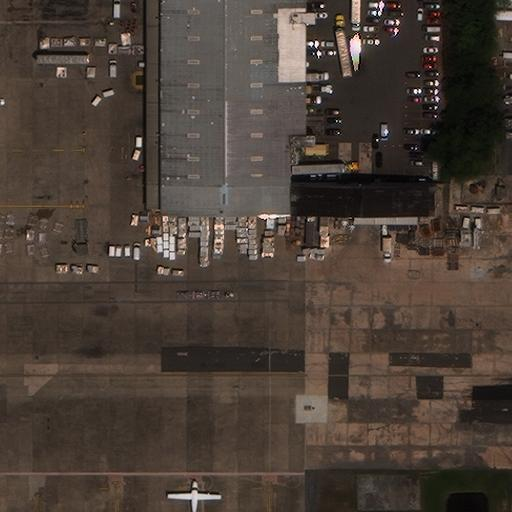Medium Civil Transport: (167, 480, 221, 512)
